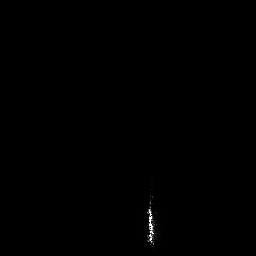ship: (146, 191, 159, 250)
